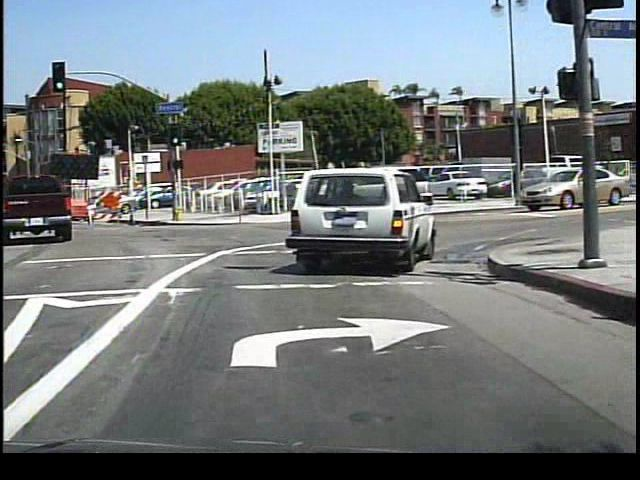person: (506, 161, 526, 205)
